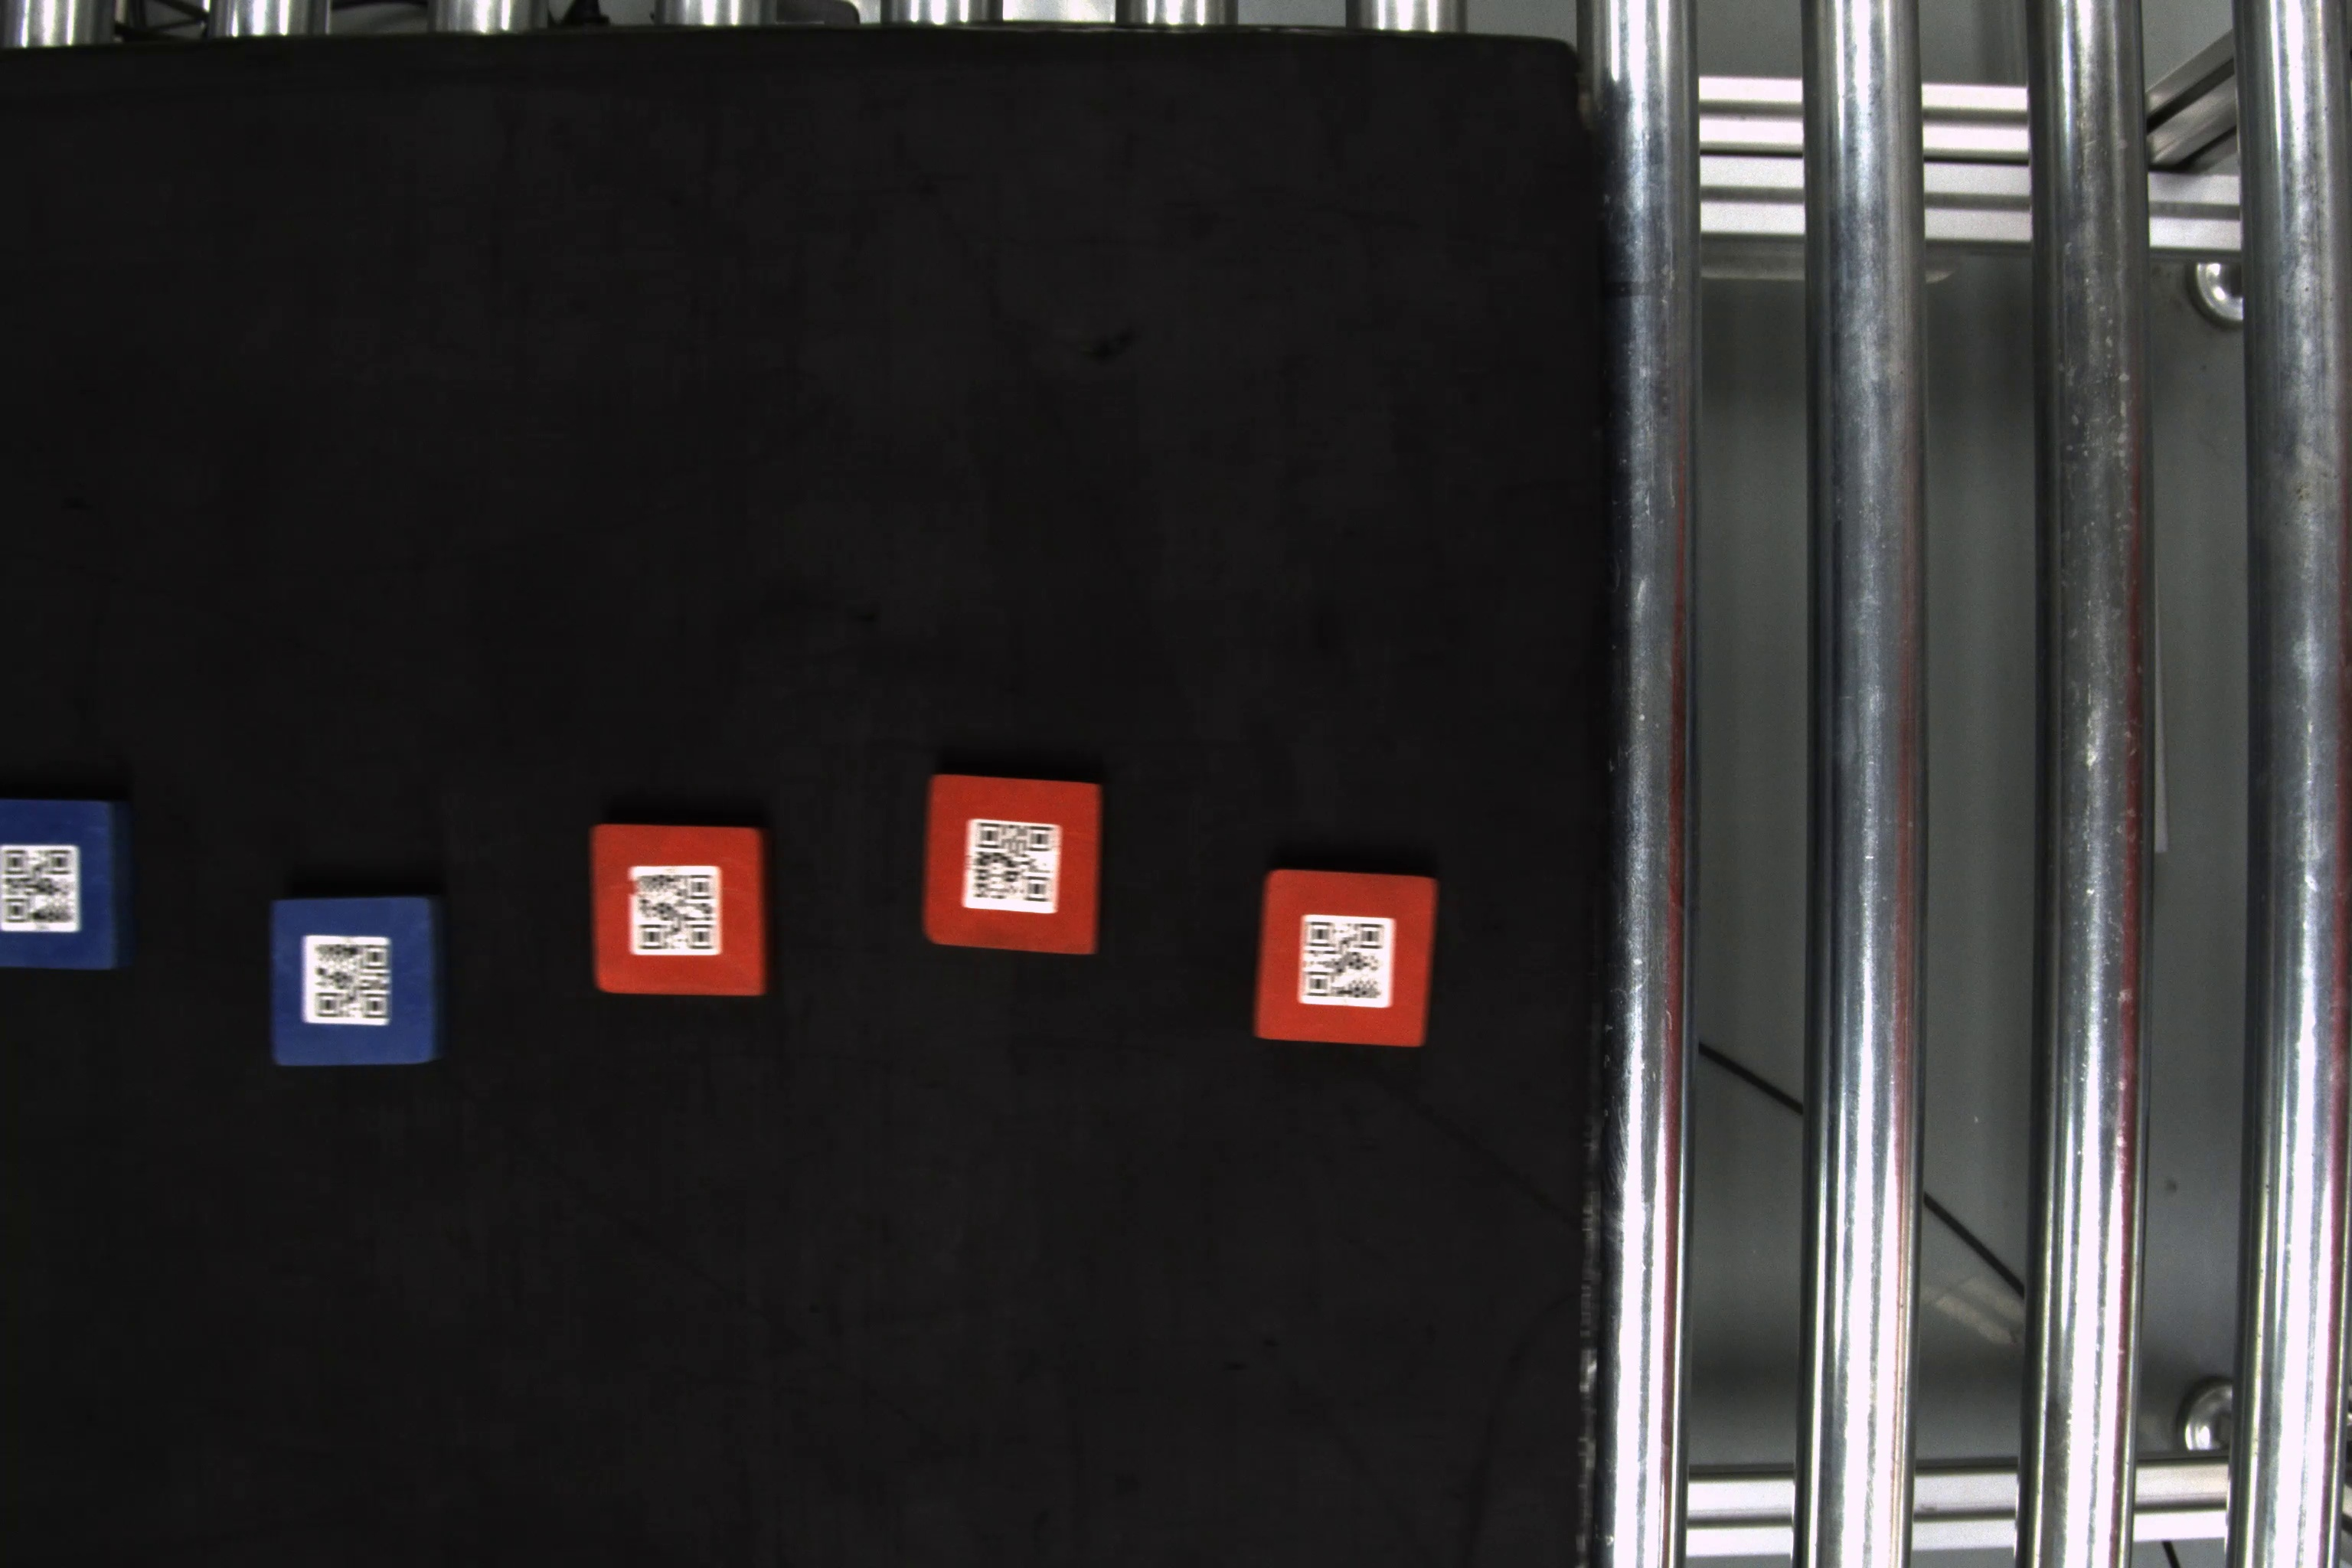wood: (1251, 864, 1442, 1057), (588, 819, 772, 1003), (924, 772, 1106, 957), (268, 898, 457, 1069), (2, 794, 136, 976)
